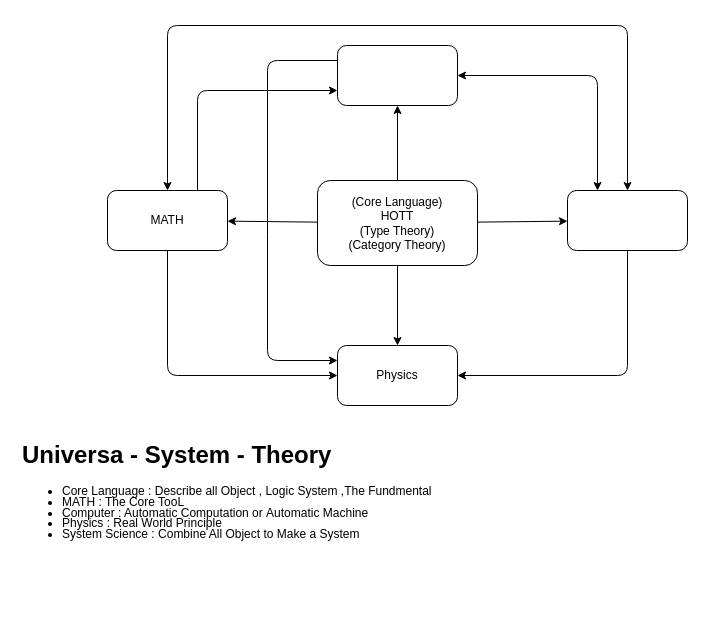
This 705x633 diagram has some shape labels left out. The shapes that lost their labels are listed below. From the top down, each one's box as (x1, y1, x2, y2) in pixels, then its label:
(336, 44, 458, 106): System Science
(566, 190, 688, 250): Computer
